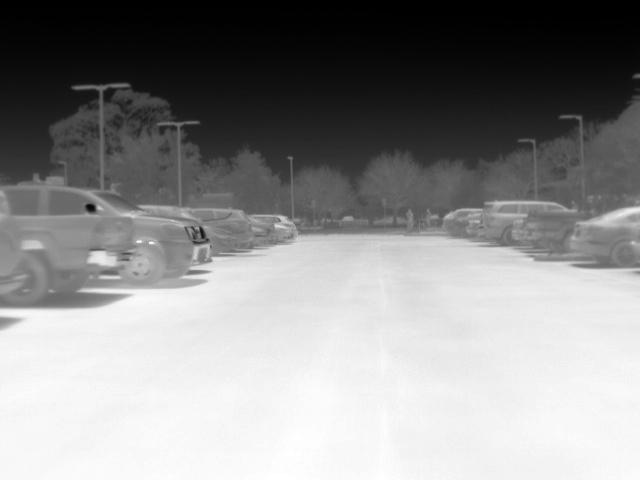car: (1, 184, 213, 288), (2, 189, 138, 304), (468, 200, 572, 244), (570, 204, 640, 268), (189, 206, 255, 247), (523, 213, 595, 250), (251, 212, 298, 239), (442, 206, 487, 234), (445, 212, 480, 238), (255, 220, 292, 242), (209, 226, 238, 253), (292, 217, 301, 227)
person: (405, 207, 415, 232), (424, 208, 432, 230)
